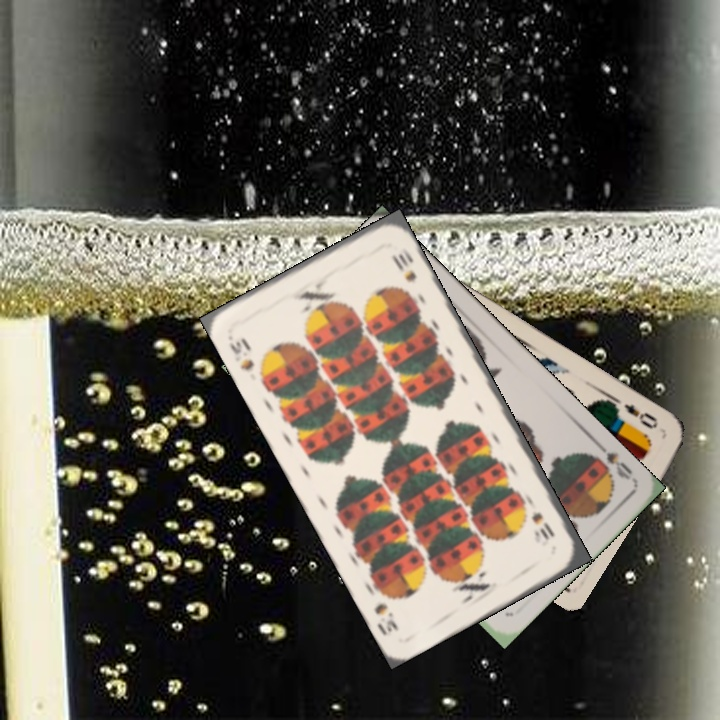EO: (620, 399, 661, 432)
S10: (225, 333, 257, 374), (528, 507, 557, 543)
SO: (582, 436, 635, 483)
